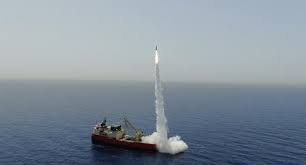ten_lua: (154, 42, 159, 55)
